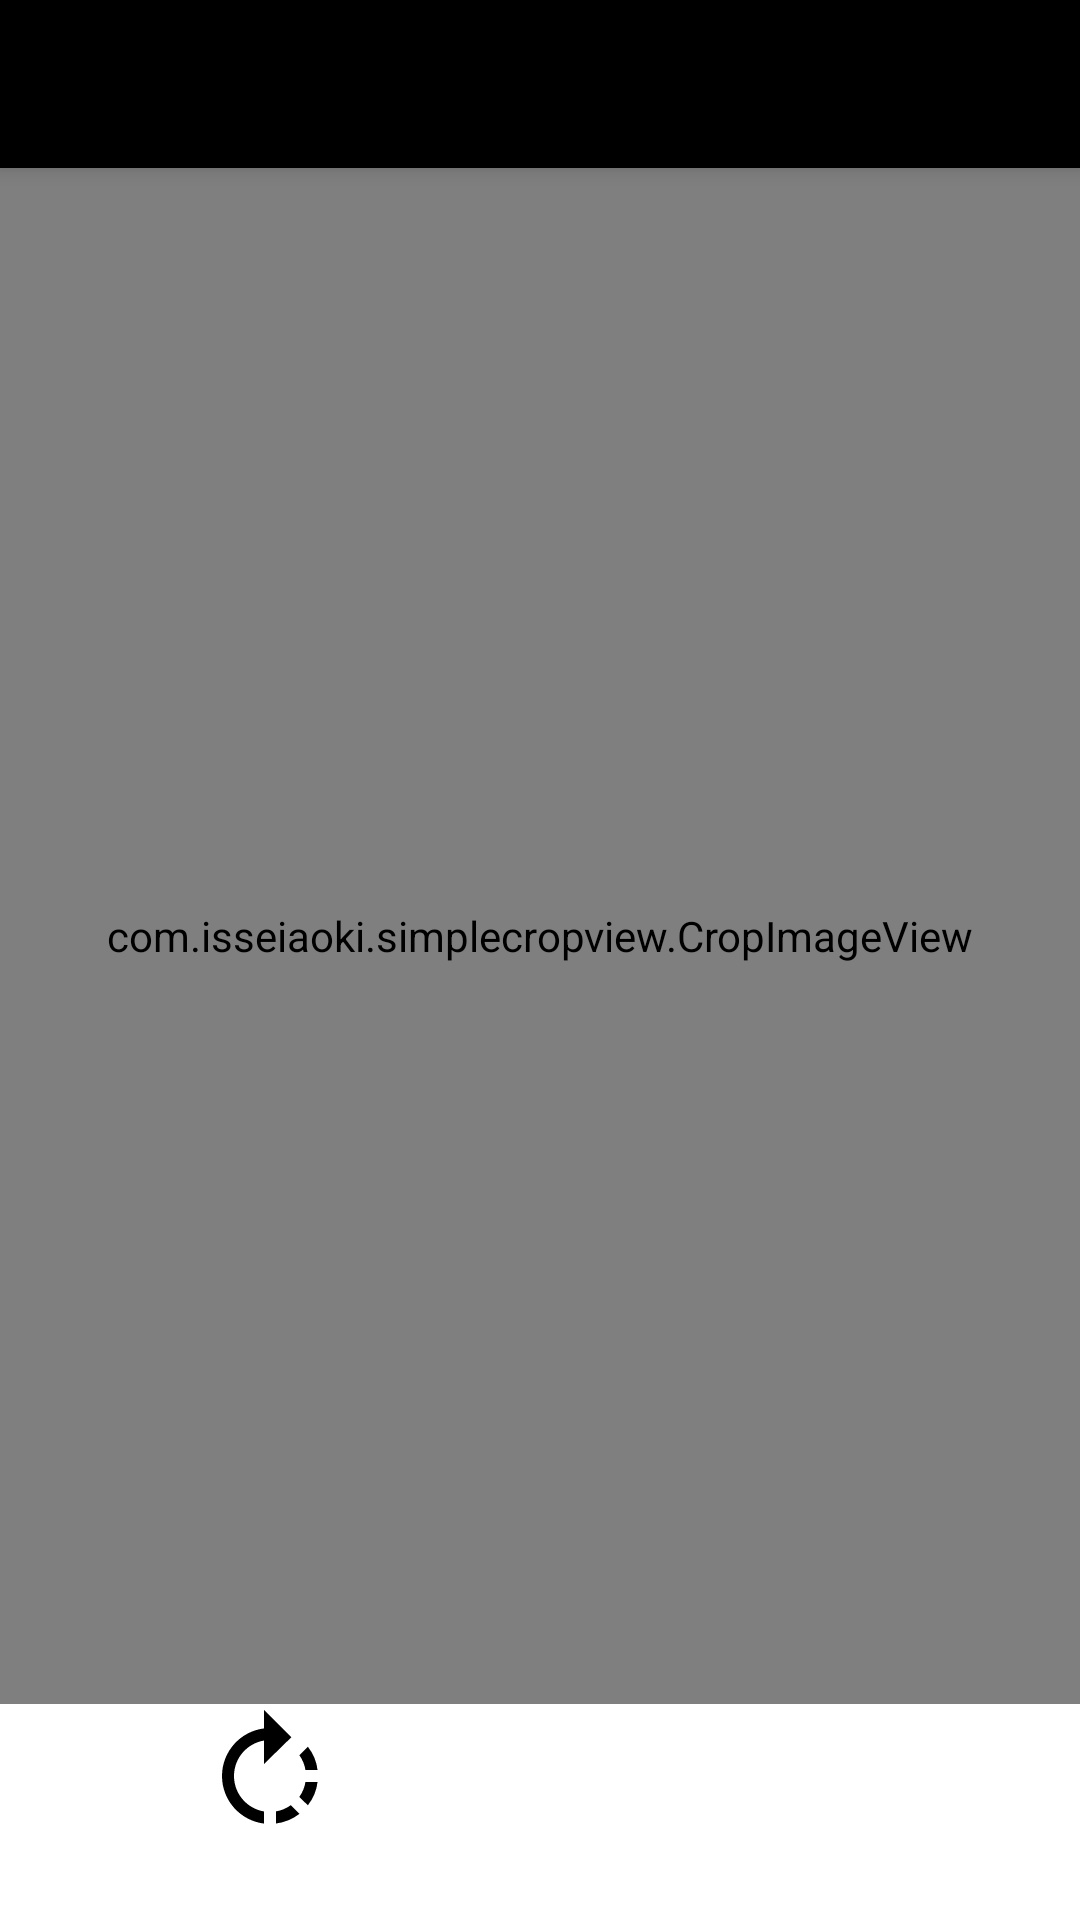

Screen size 1080 x 1920. Icon name, then its box in pixels as {"x1": x1, "y1": y1, "x2": x2, "y2": y2}:
rotate right: {"x1": 222, "y1": 1710, "x2": 318, "y2": 1824}
